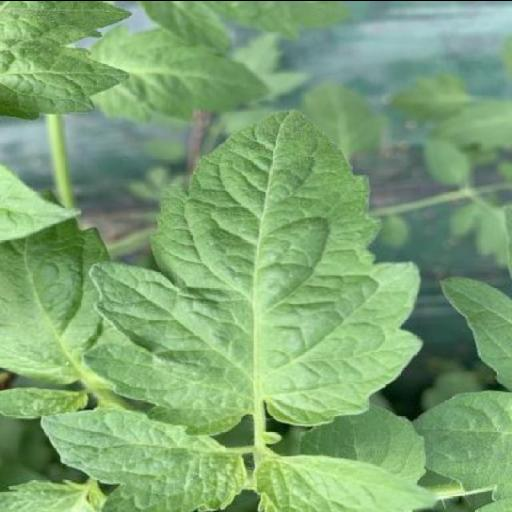Healthy: (82, 108, 422, 435), (42, 409, 248, 512), (254, 453, 436, 512)
